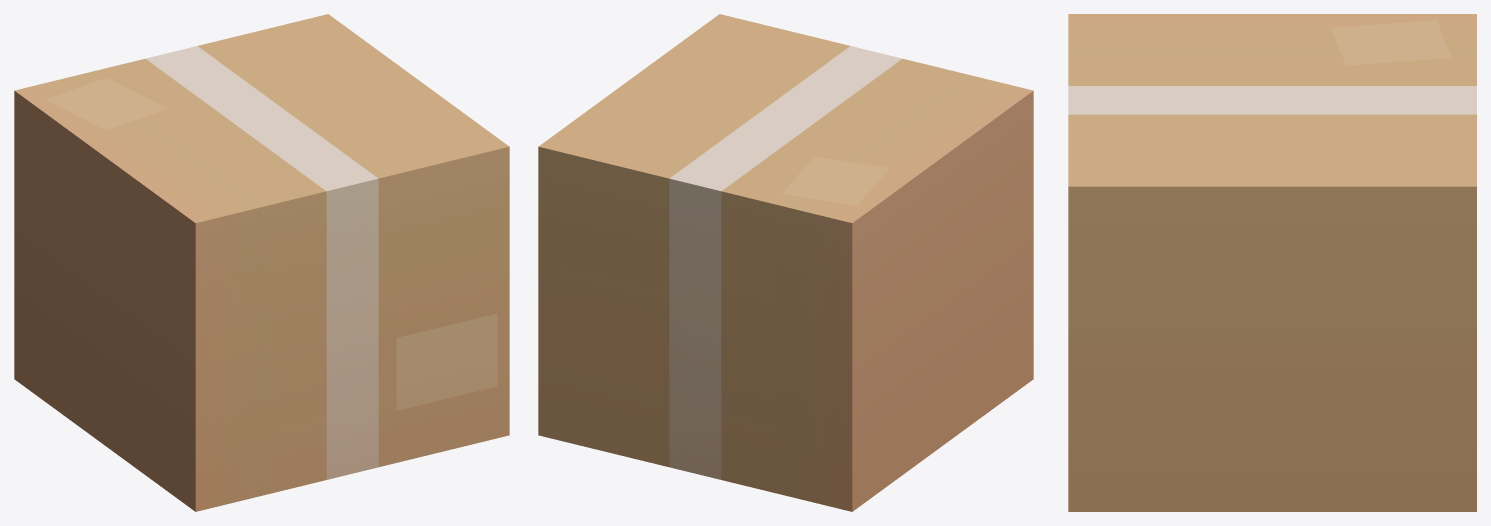
The model's file is kay-caixa-papelao-a.gltf.
3 renders of one model, left to right at view 1: azimuth 30°, elevation 25°; view 2: azimuth 150°, elevation 25°; view 3: azimuth 270°, elevation 25°, orthographic. The views are drawn at different scales.
Visible parts, largest first — view 1: box_A; view 2: box_A; view 3: box_A.
Part boxes in pixels (box(x1,y1,x2,y2)): box_A: box(14, 14, 509, 511); box_A: box(538, 14, 1033, 511); box_A: box(1068, 14, 1476, 511).
Bounding box in the file's own units: 1 × 0.882 × 1.02.
Materials: 1 (1 with a texture image).
